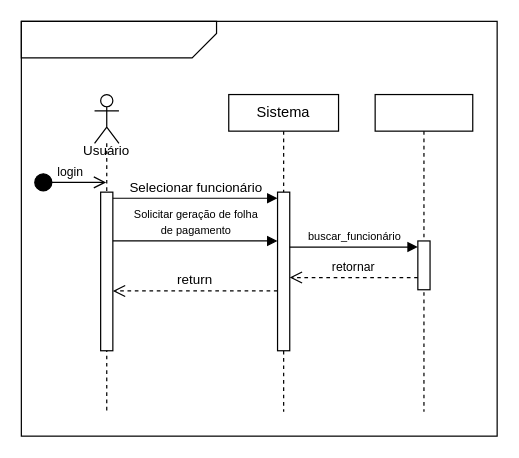
The diagram is 519 pixels wide and 458 high, and some of its shapes have lost their labels. The centre of each missing label's shape, as x and y in pixels:
"Banco de dados" belongs at (423,252).
"Gerar folha de pagamento" belongs at (118,39).
